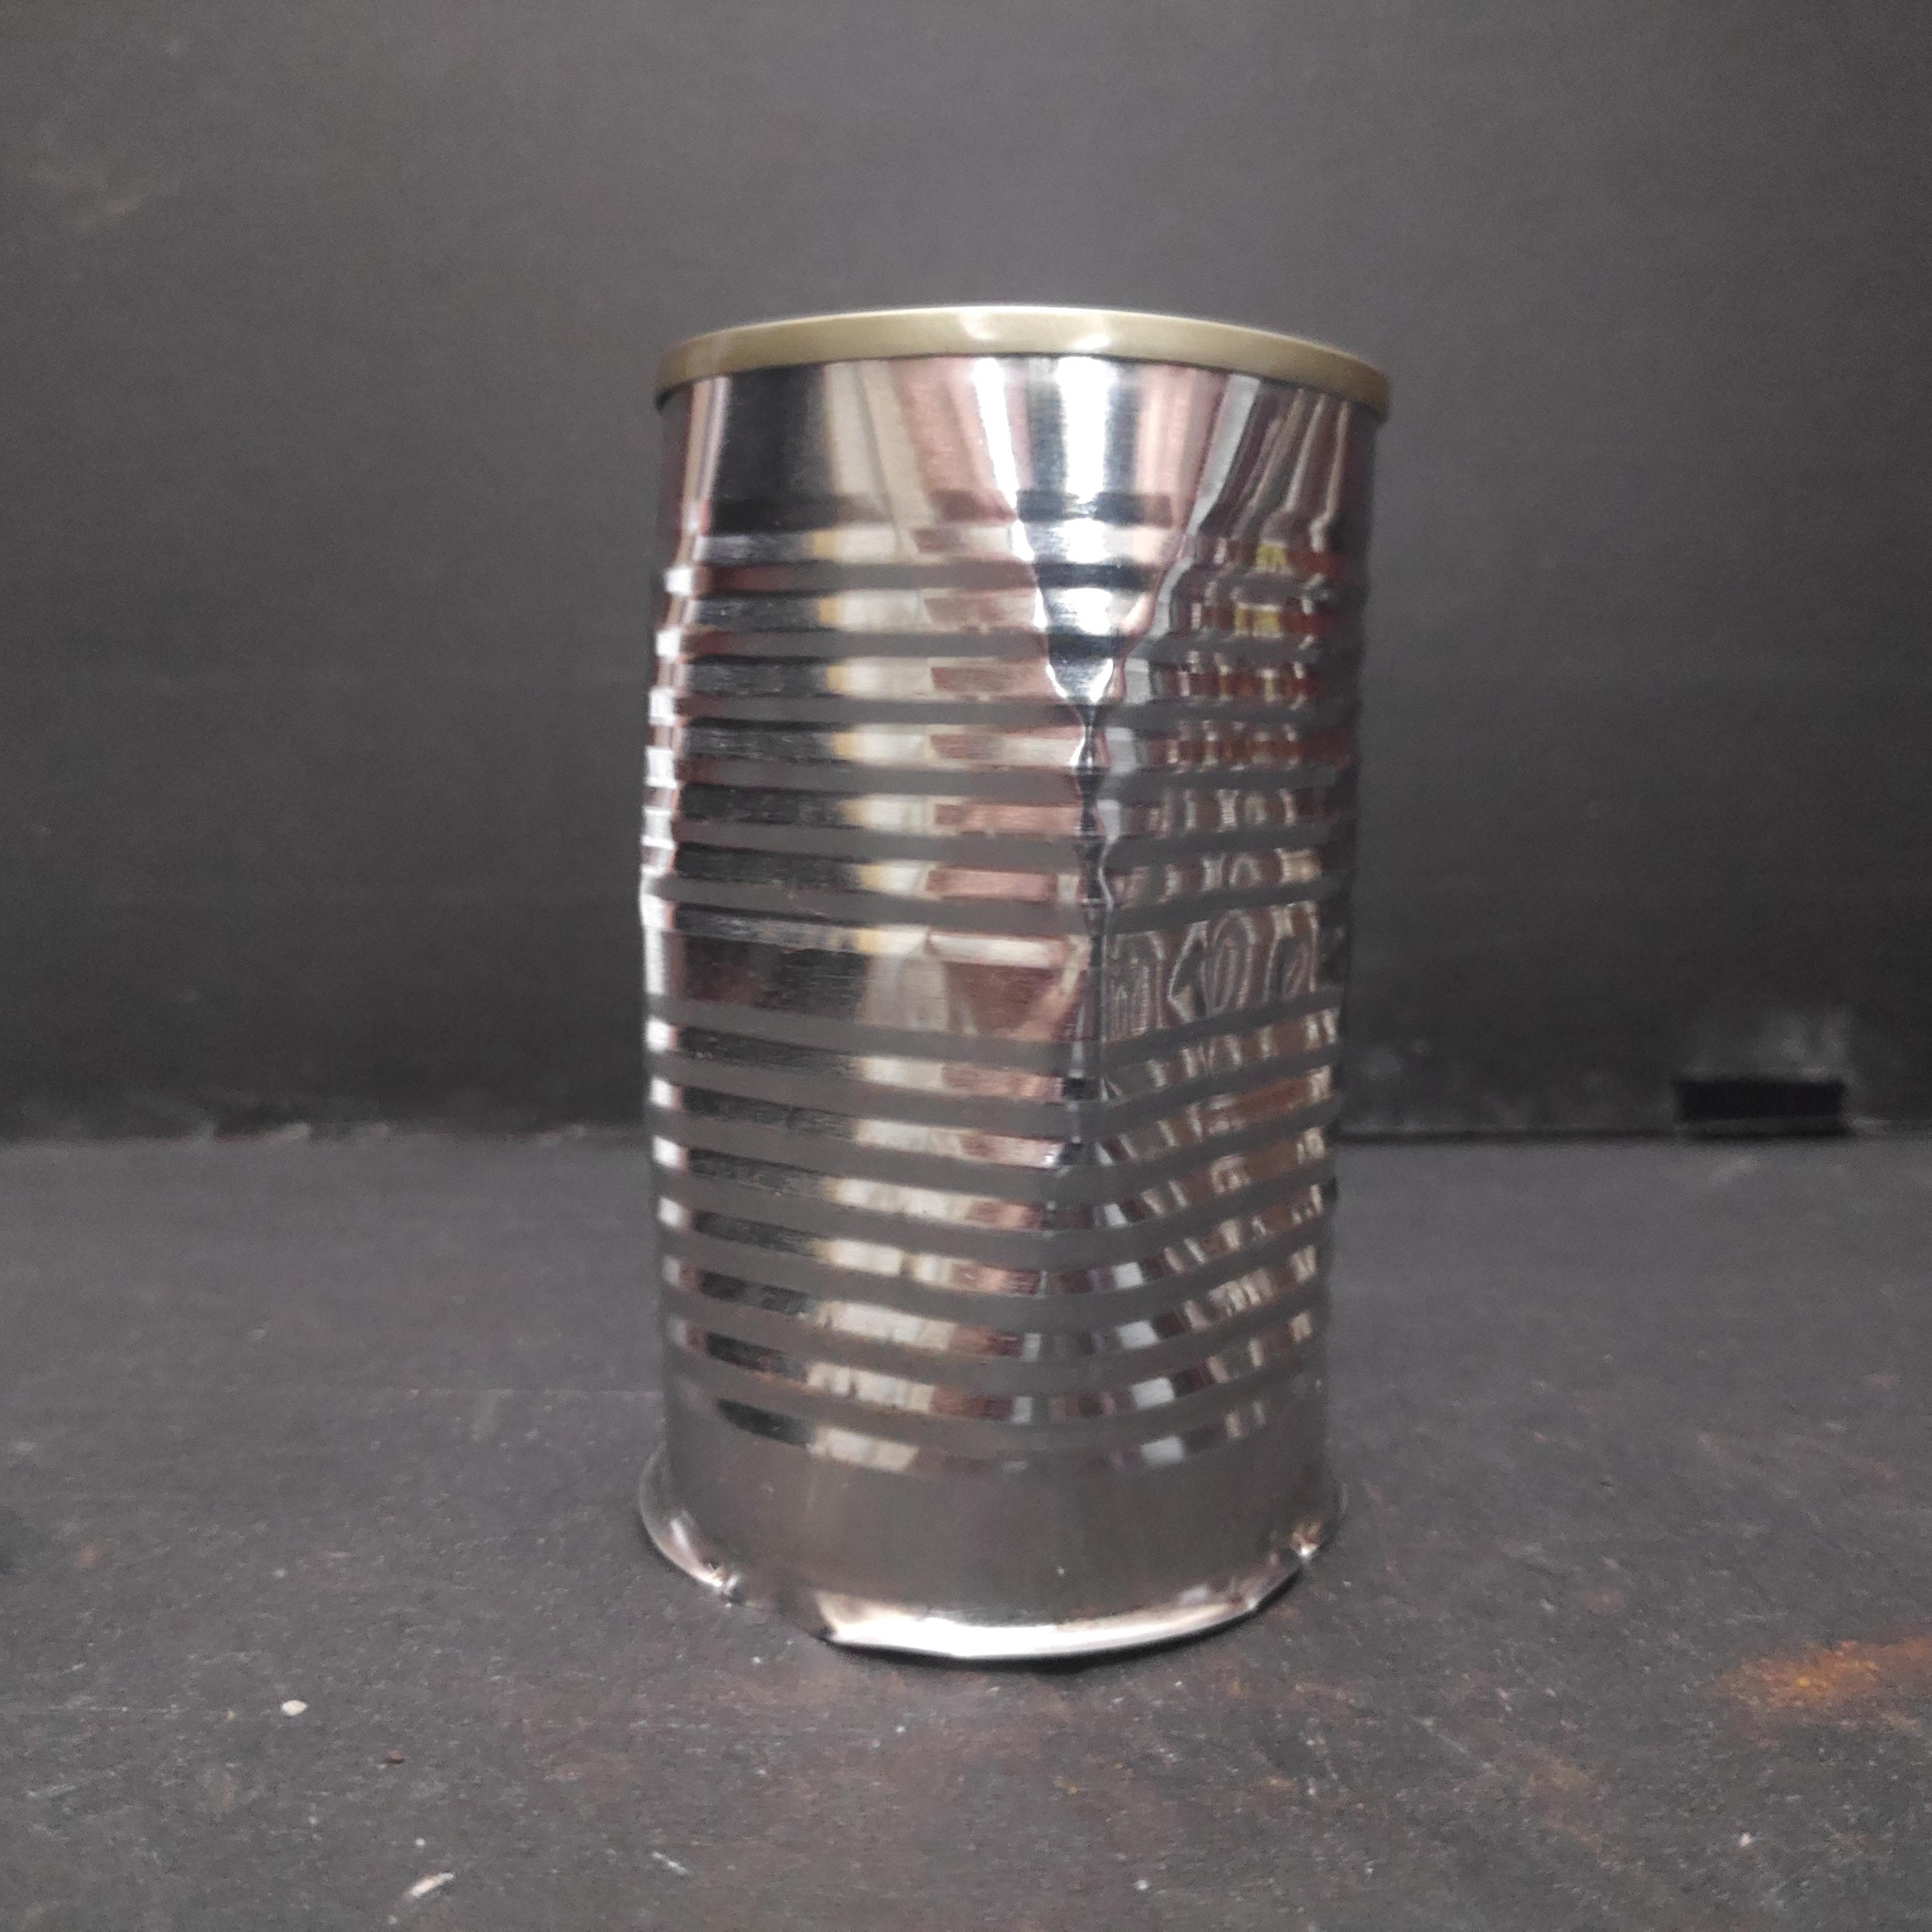Minor Defect: (625, 301, 1394, 1681)
